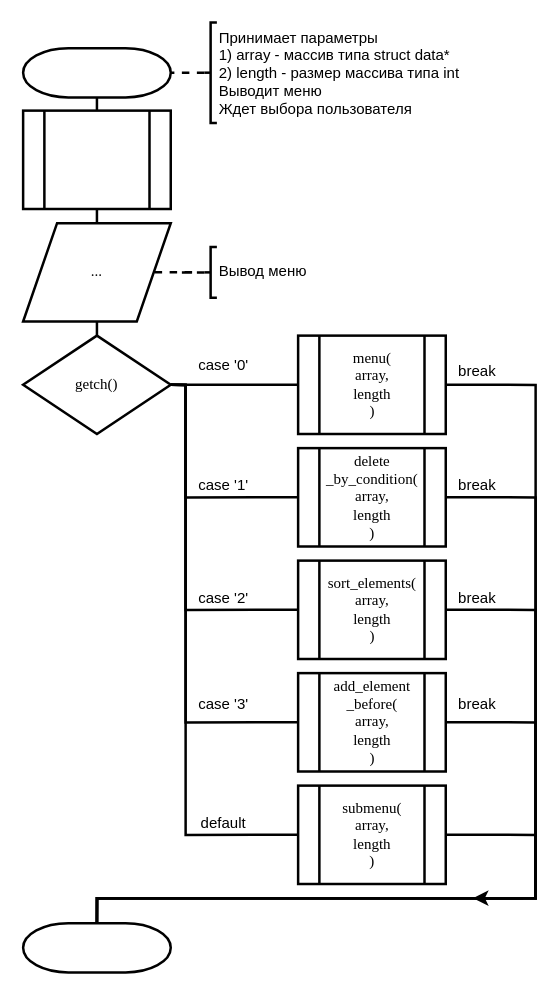
The diagram is 559 pixels wide and 995 high, and some of its shapes have lost their labels. Here are the shapes that lost their labels. From the top down, the centre of each, then its label:
At [96,72]: "void submenu()".
At [96,159]: "clear_console()".
At [96,947]: "Конец".
